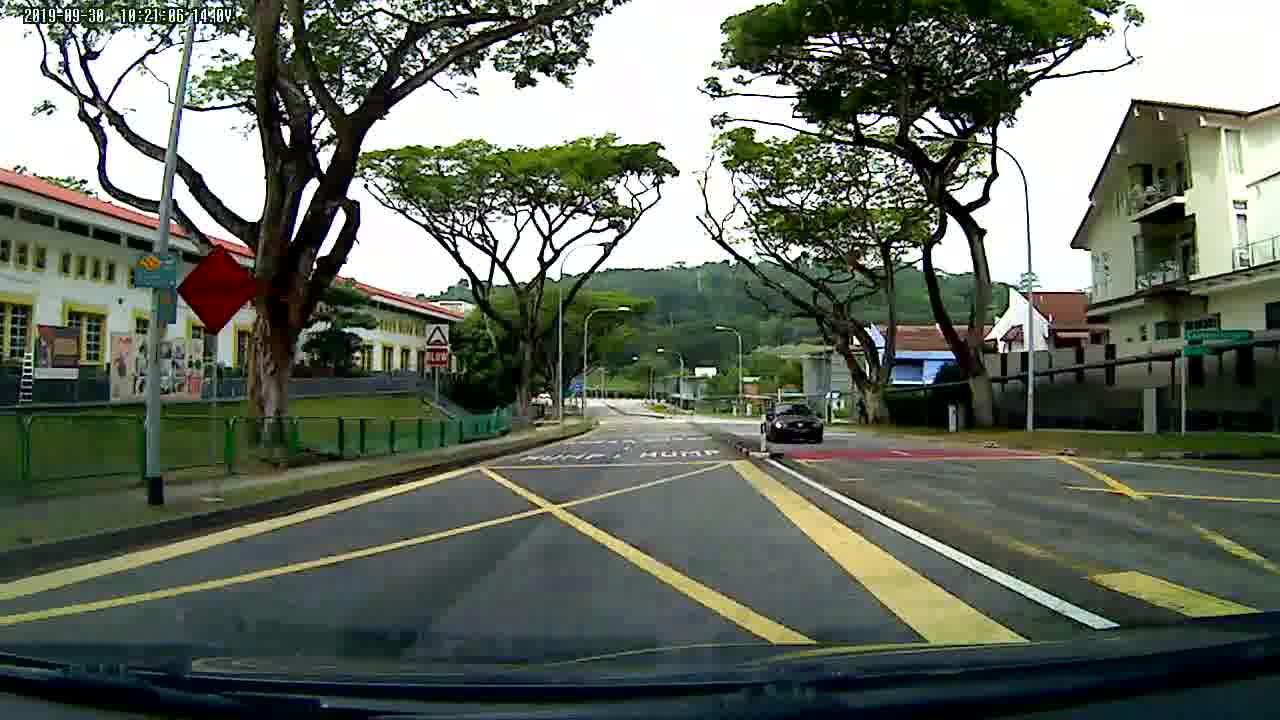car: (759, 401, 827, 446)
